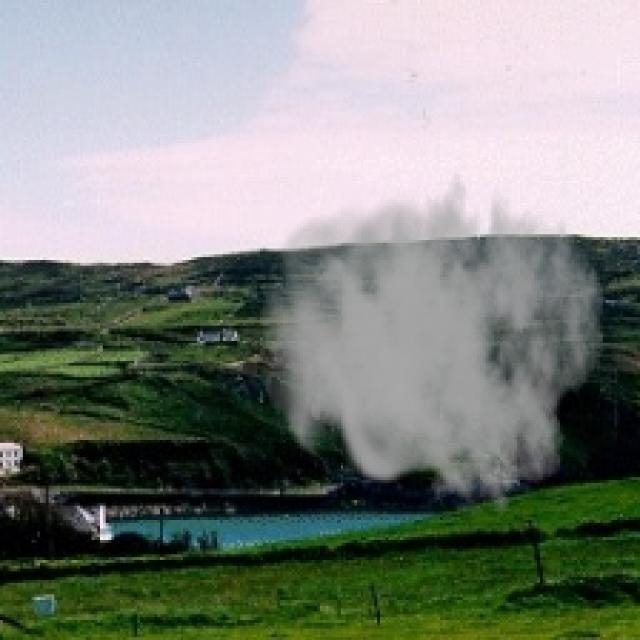Smoke: (260, 155, 606, 514)
